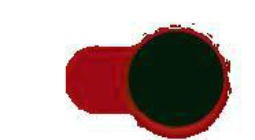Switch: (1, 1, 254, 139)
